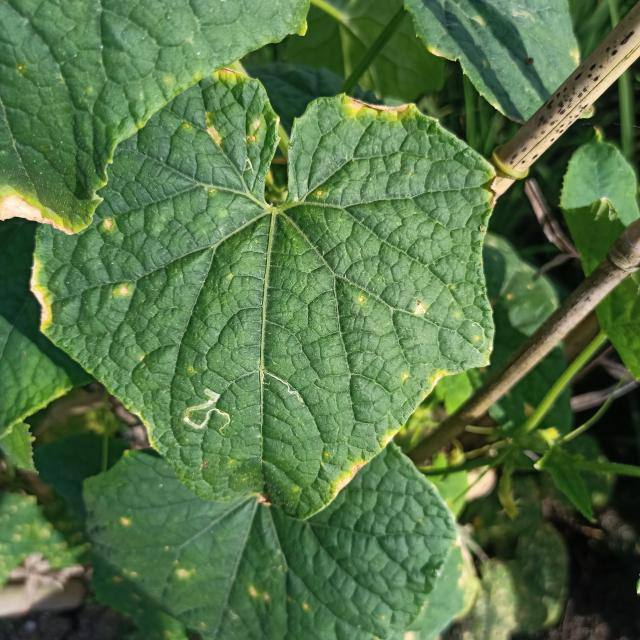disease_cucumber: (200, 108, 264, 152), (399, 364, 456, 398), (114, 279, 135, 299), (411, 299, 426, 319), (103, 216, 115, 236)
